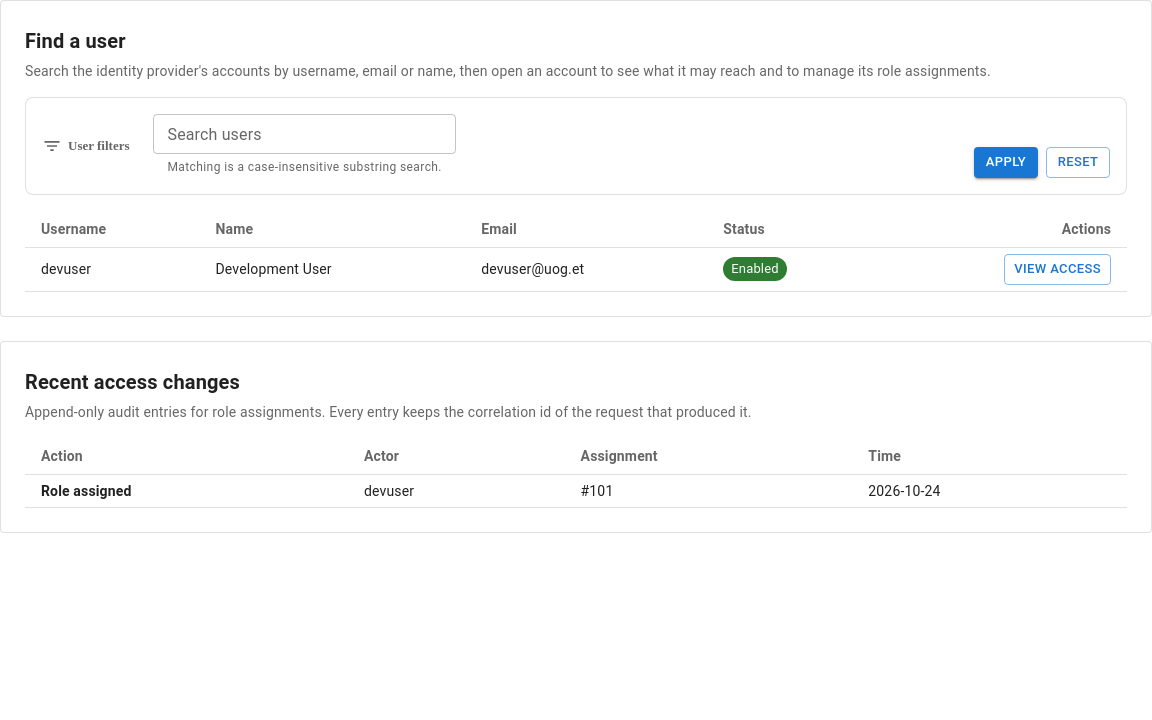
it: AccessScreen — revoke assignment › confirms before revoking, then refreshes the lists
Click the button with aria-label "View access for devuser".
click(1058, 269)  # box [1004,254,1111,285]
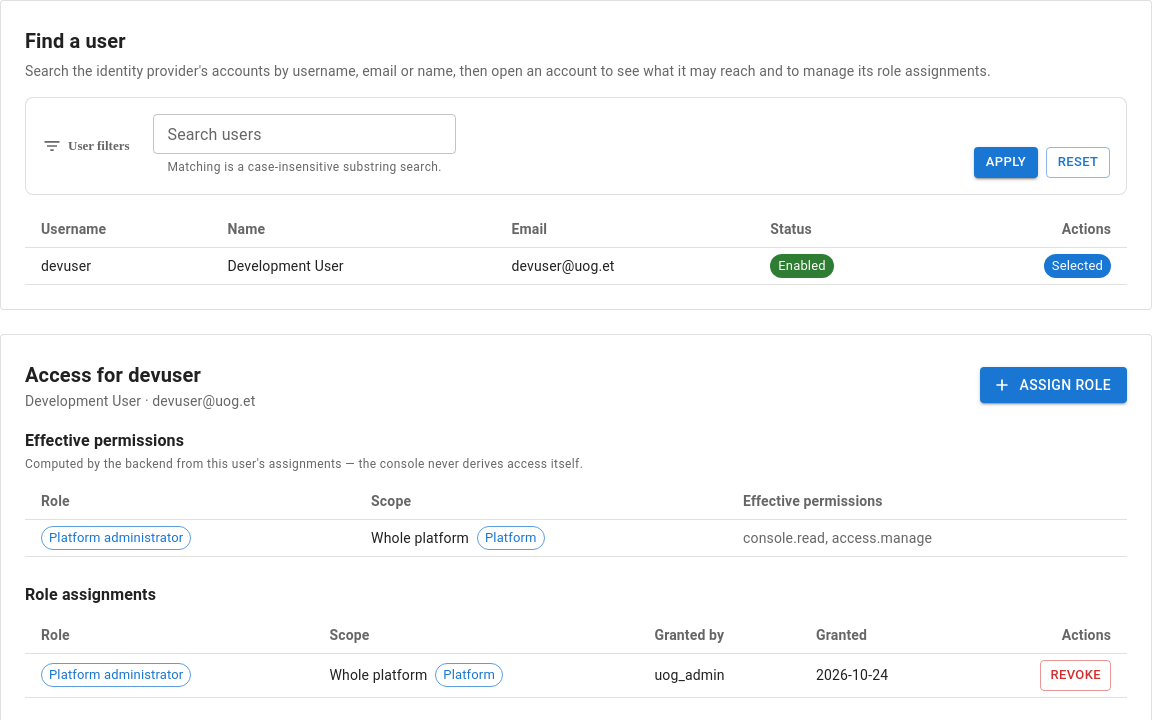
Click the button with aria-label "Revoke Platform administrator".
click(1076, 675)  # box [1040,660,1111,691]
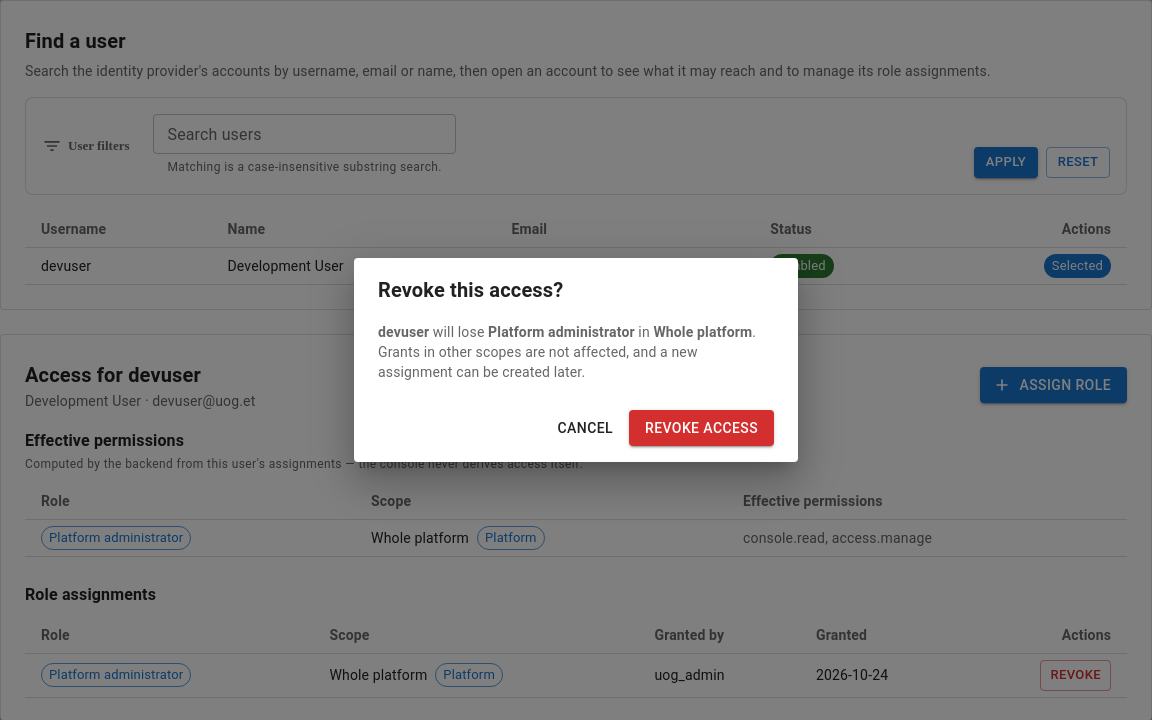
Expected: the dialog "Revoke this access?" shows "Whole platform", [653,324,752,340]
Click the button "Revoke access".
click(702, 428)  # box [629,410,774,446]
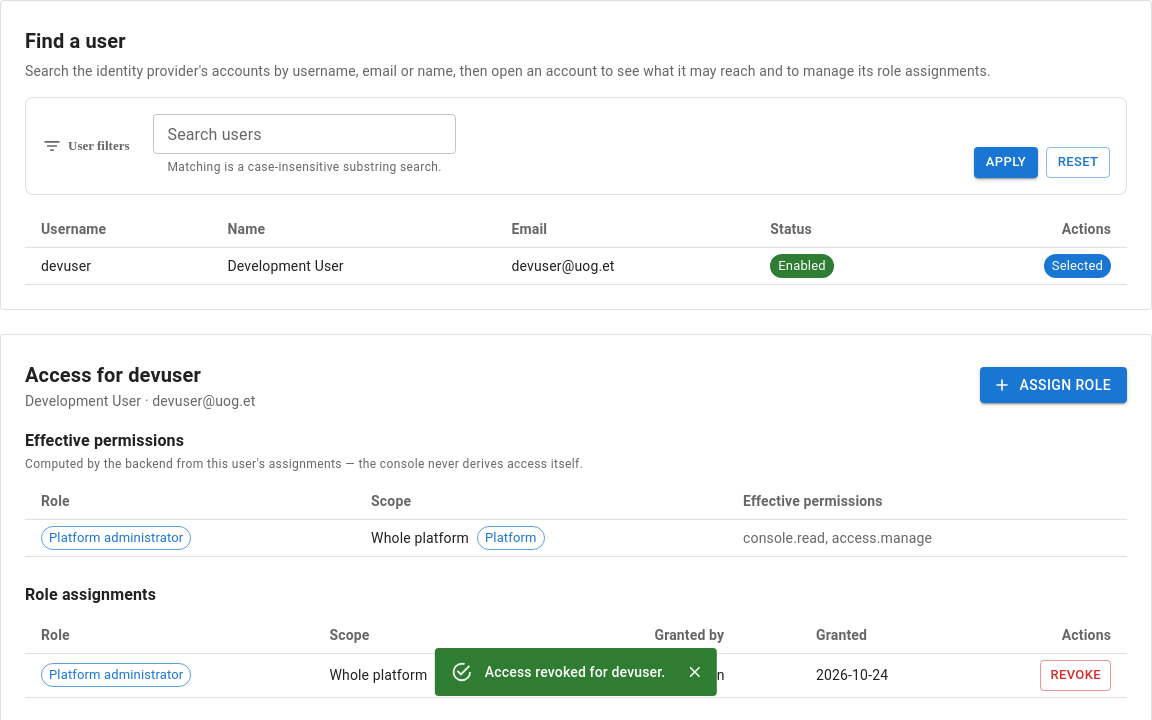
Expected: the text "Access revoked for devuser." is shown, [485,664,665,680]
Expected: the dialog is gone
